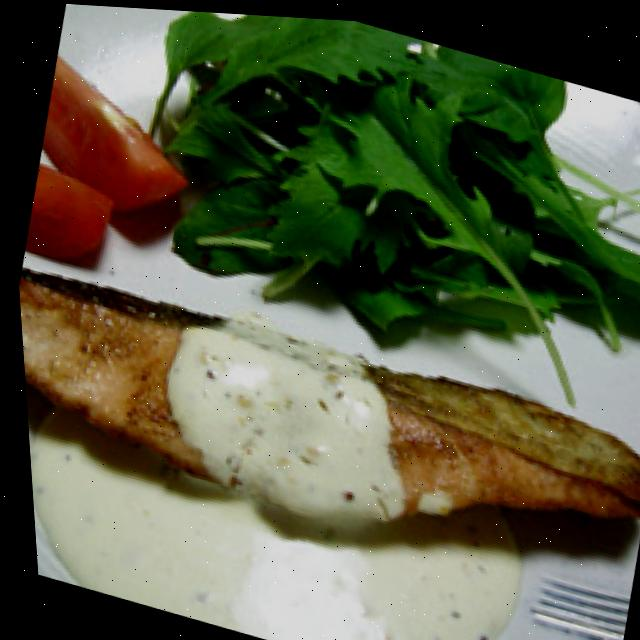熟制海鲜: (12, 237, 640, 585)
